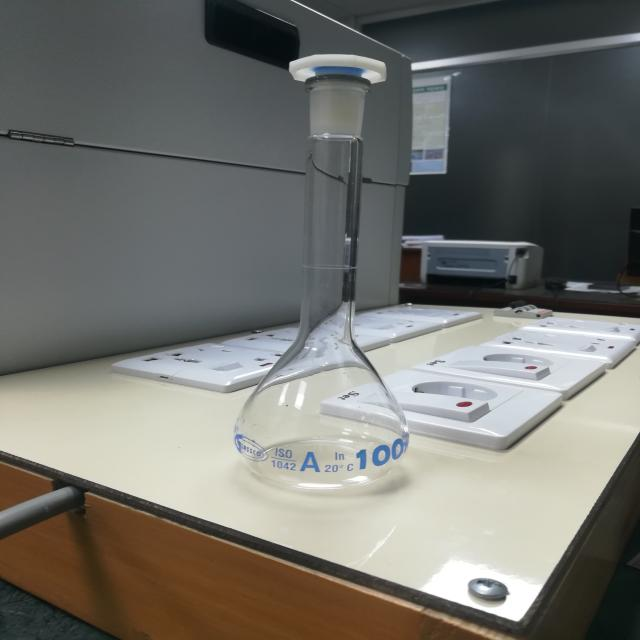Volumetric_Flask: (241, 26, 432, 520)
